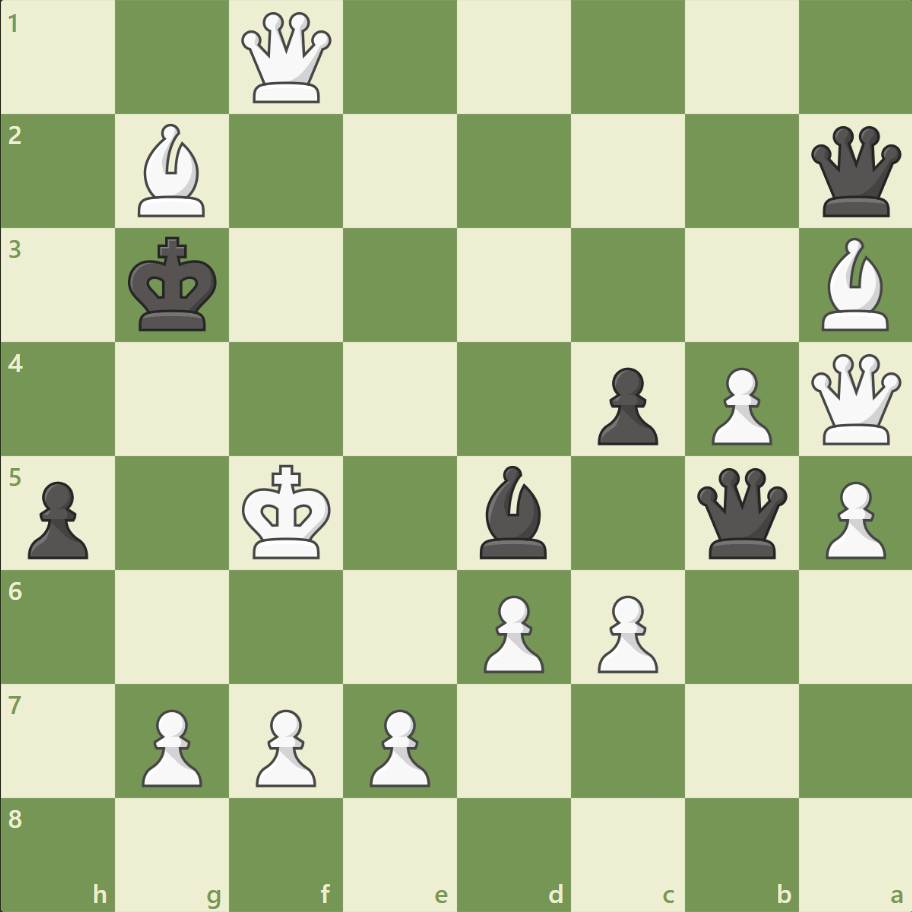B: (812, 233, 896, 336), (131, 120, 215, 222)
K: (238, 458, 338, 566)
P: (247, 700, 322, 791), (133, 700, 208, 791), (474, 586, 549, 677), (701, 359, 776, 450), (361, 700, 435, 791), (588, 586, 662, 677), (815, 473, 889, 564)
Q: (805, 349, 904, 449), (237, 9, 336, 108)
b: (471, 460, 555, 563)
k: (124, 231, 224, 339)
p: (20, 473, 95, 564), (588, 359, 662, 450)
q: (805, 122, 904, 222), (691, 463, 790, 562)
